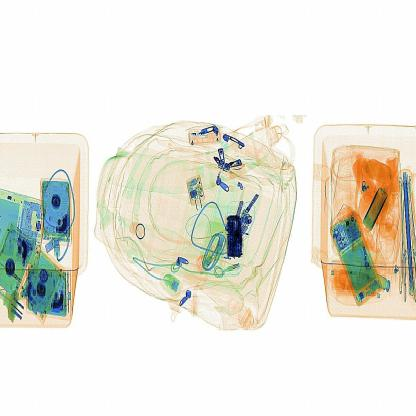scissors: (218, 205, 256, 267)
